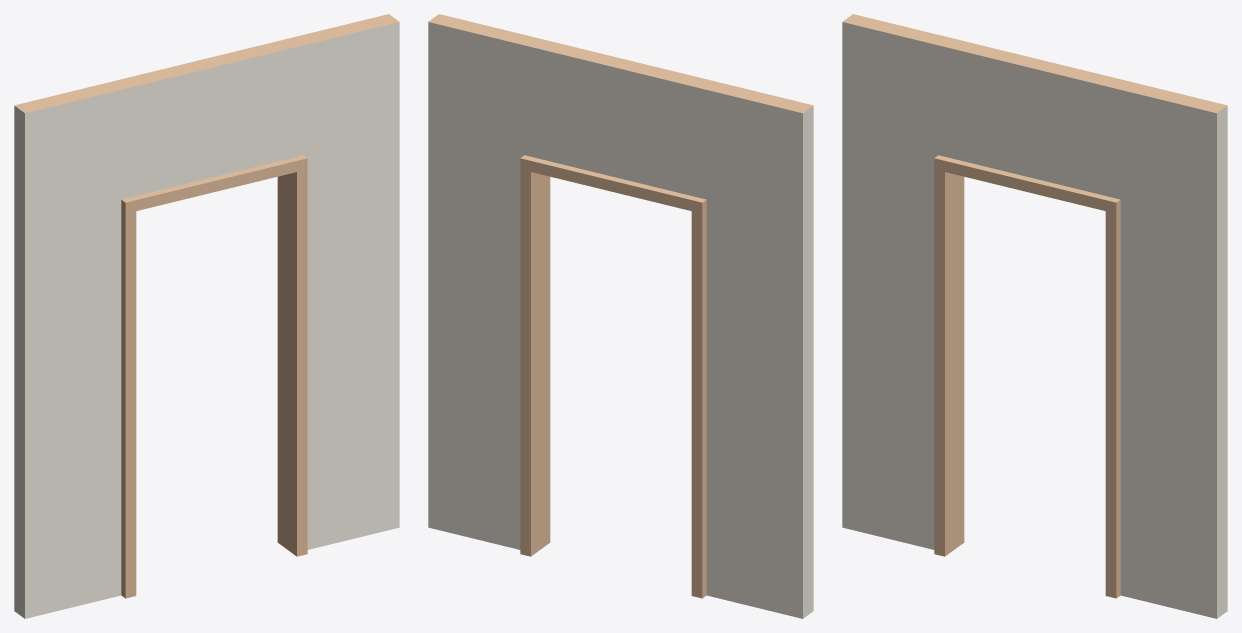
File: wallDoorway.glb
3 renders of one model, left to right at view 1: azimuth 30°, elevation 25°; view 2: azimuth 150°, elevation 25°; view 3: azimuth 330°, elevation 25°, orthographic.
Parts seen in each view (by area): view 1: wallDoorway(Clone); view 2: wallDoorway(Clone); view 3: wallDoorway(Clone).
Boxes of the visible parts, bbox=[...] form: wallDoorway(Clone): bbox=[14, 14, 399, 618]; wallDoorway(Clone): bbox=[428, 14, 813, 618]; wallDoorway(Clone): bbox=[842, 14, 1227, 618].
Size of the model in its own units: 1 by 1.29 by 0.0891.
